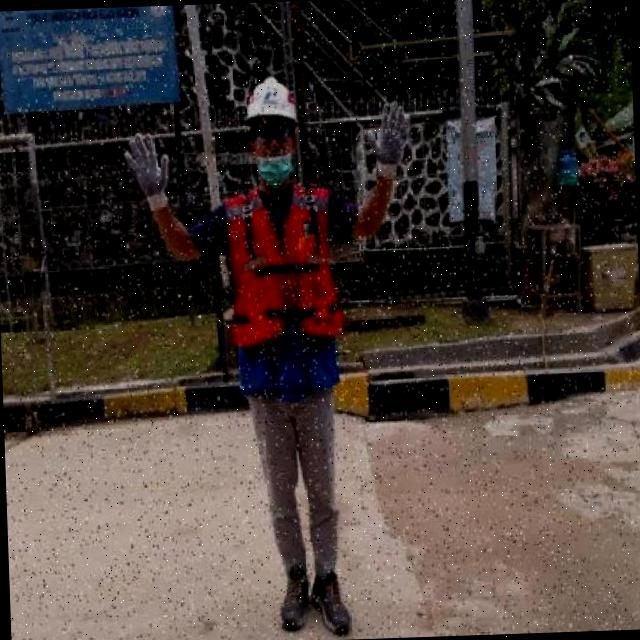boots: (310, 568, 352, 637), (276, 564, 312, 632)
